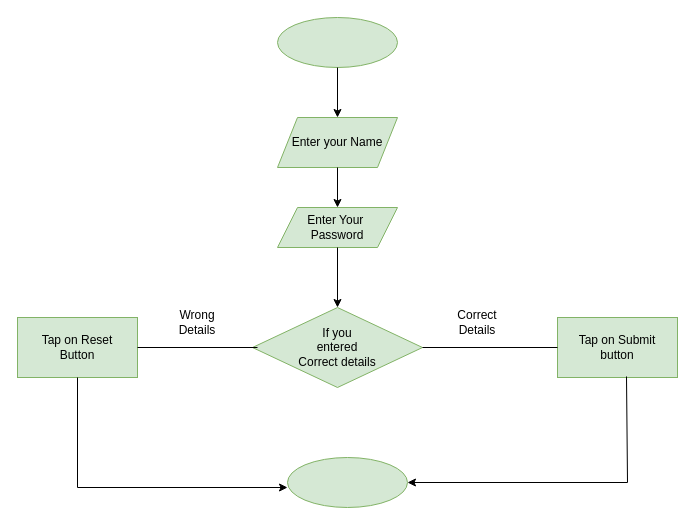
Image size: 695x525. Some labels were removed from this diagram. The shapes that lost their labels are listed below. From the top down, each one's centre as x and y in pixels, then its label:
(x=337, y=42): Open The Form Website
(x=347, y=482): End
